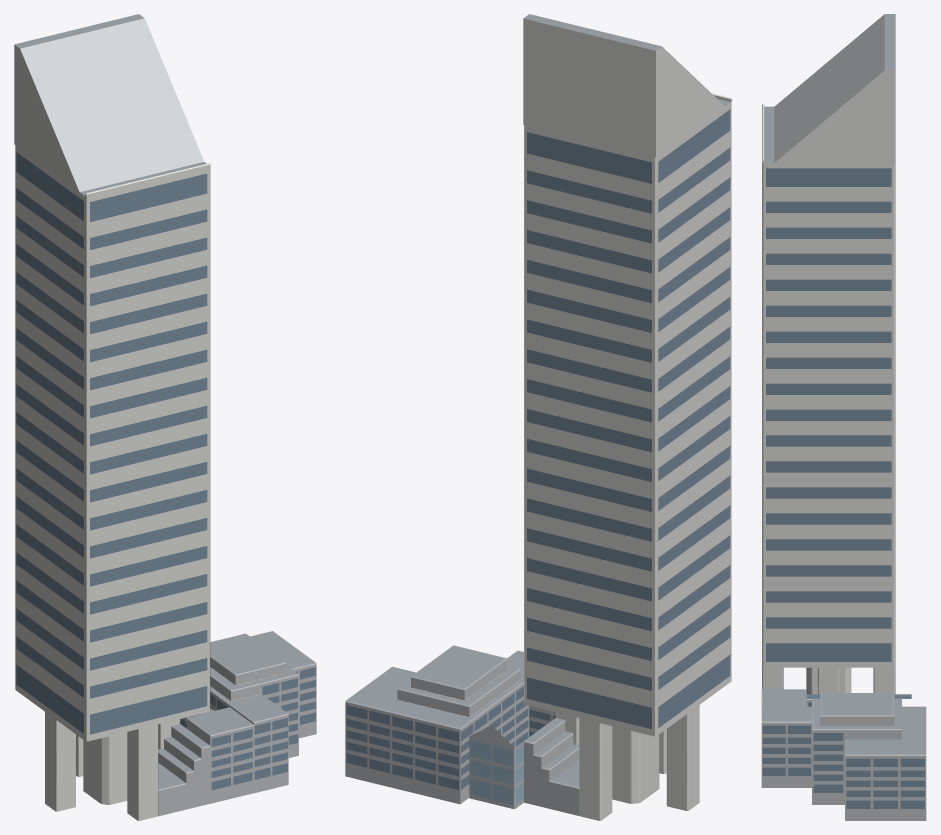
Rendered from nyc-citigroup-center.glb.
The picture shows the model from 3 angles, left to right: view 1: azimuth 30°, elevation 25°; view 2: azimuth 150°, elevation 25°; view 3: azimuth 270°, elevation 25°; orthographic projection. The views are drawn at different scales.
Parts seen in each view (by area): view 1: Citigroup Center; view 2: Citigroup Center; view 3: Citigroup Center.
Part boxes in pixels (x1,y1,x2,y2): Citigroup Center: (14,14,316,820); Citigroup Center: (345,14,732,820); Citigroup Center: (761,14,926,820).
Bounding box in the file's own units: 110 × 280 × 61.4.
